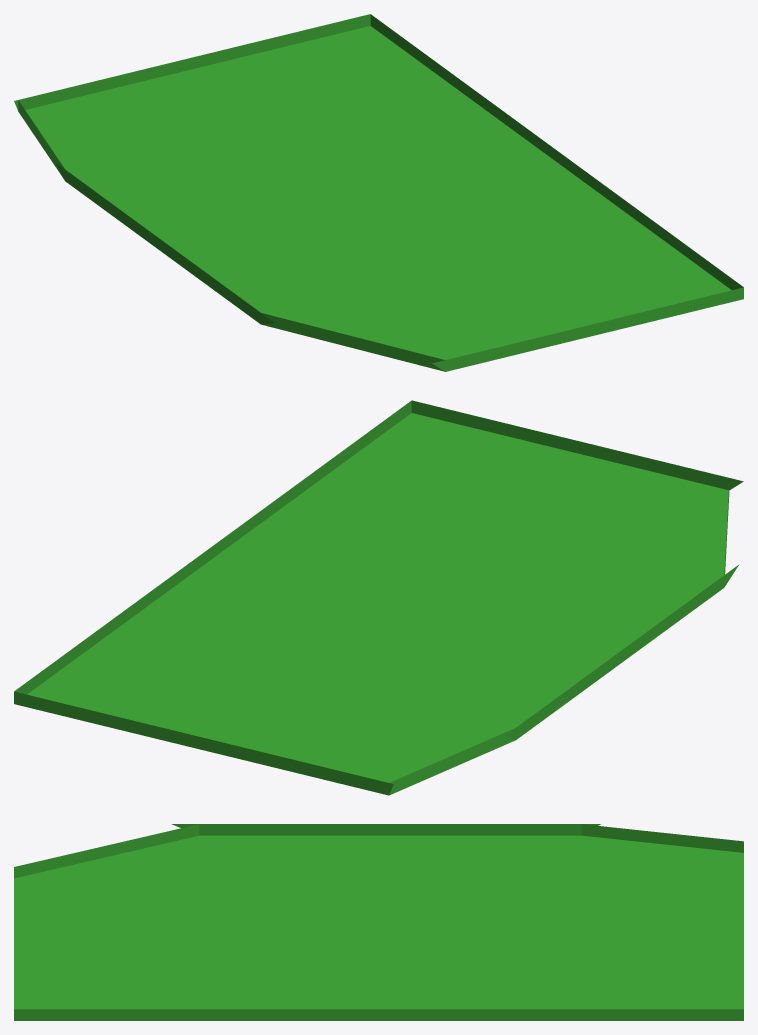
The model's file is playable_VIScol_20260215.glb.
3 views of the same model, one above another, from view 1: azimuth 30°, elevation 25°; view 2: azimuth 150°, elevation 25°; view 3: azimuth 270°, elevation 25° (orthographic). The views are drawn at different scales.
Parts seen in each view (by area): view 1: Plane-col; view 2: Plane-col; view 3: Plane-col.
Part boxes in pixels (x1,y1,x2,y2): Plane-col: [14, 14, 743, 371]; Plane-col: [14, 400, 743, 795]; Plane-col: [14, 824, 743, 1020].
Size of the model in its own units: 34.45 by 1 by 57.38.
